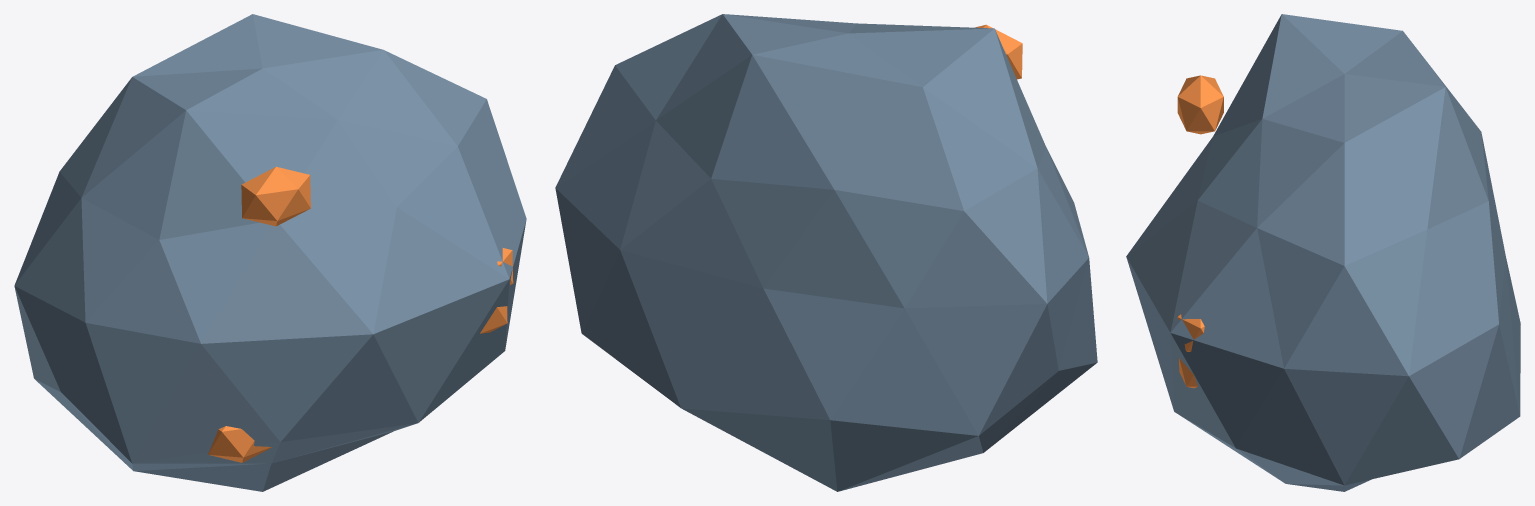
File: asteroid_0.glb
3 renders of one model, left to right at view 1: azimuth 30°, elevation 25°; view 2: azimuth 150°, elevation 25°; view 3: azimuth 270°, elevation 25°, orthographic. The views are drawn at different scales.
Parts seen in each view (by area): view 1: Faceted rock, Mineral vein.001, Mineral vein.002; view 2: Faceted rock, Mineral vein.001; view 3: Faceted rock, Mineral vein.001.
Part boxes in pixels (x1=…): Faceted rock: x1=14, y1=14, x2=526, y2=491; Mineral vein.001: x1=241, y1=166, x2=310, y2=226; Mineral vein.002: x1=208, y1=426, x2=271, y2=462; Faceted rock: x1=555, y1=14, x2=1097, y2=491; Mineral vein.001: x1=975, y1=24, x2=1022, y2=79; Faceted rock: x1=1126, y1=14, x2=1520, y2=491; Mineral vein.001: x1=1177, y1=75, x2=1223, y2=134.
Bounding box in the file's own units: 1.97 × 1.73 × 1.45.
